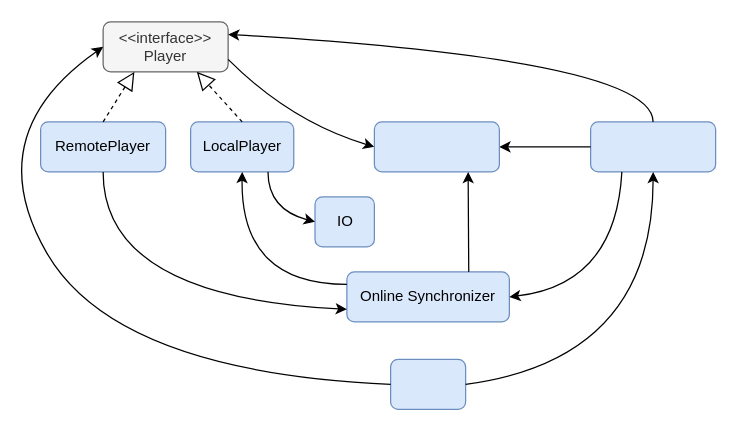
Image size: 739x431. Some labels were removed from this diagram. The centre of each missing label's shape, as x and y in pixels:
"3D World" goes at (x=436, y=146).
"GameMaster" goes at (x=652, y=146).
"UI" goes at (x=427, y=383).
